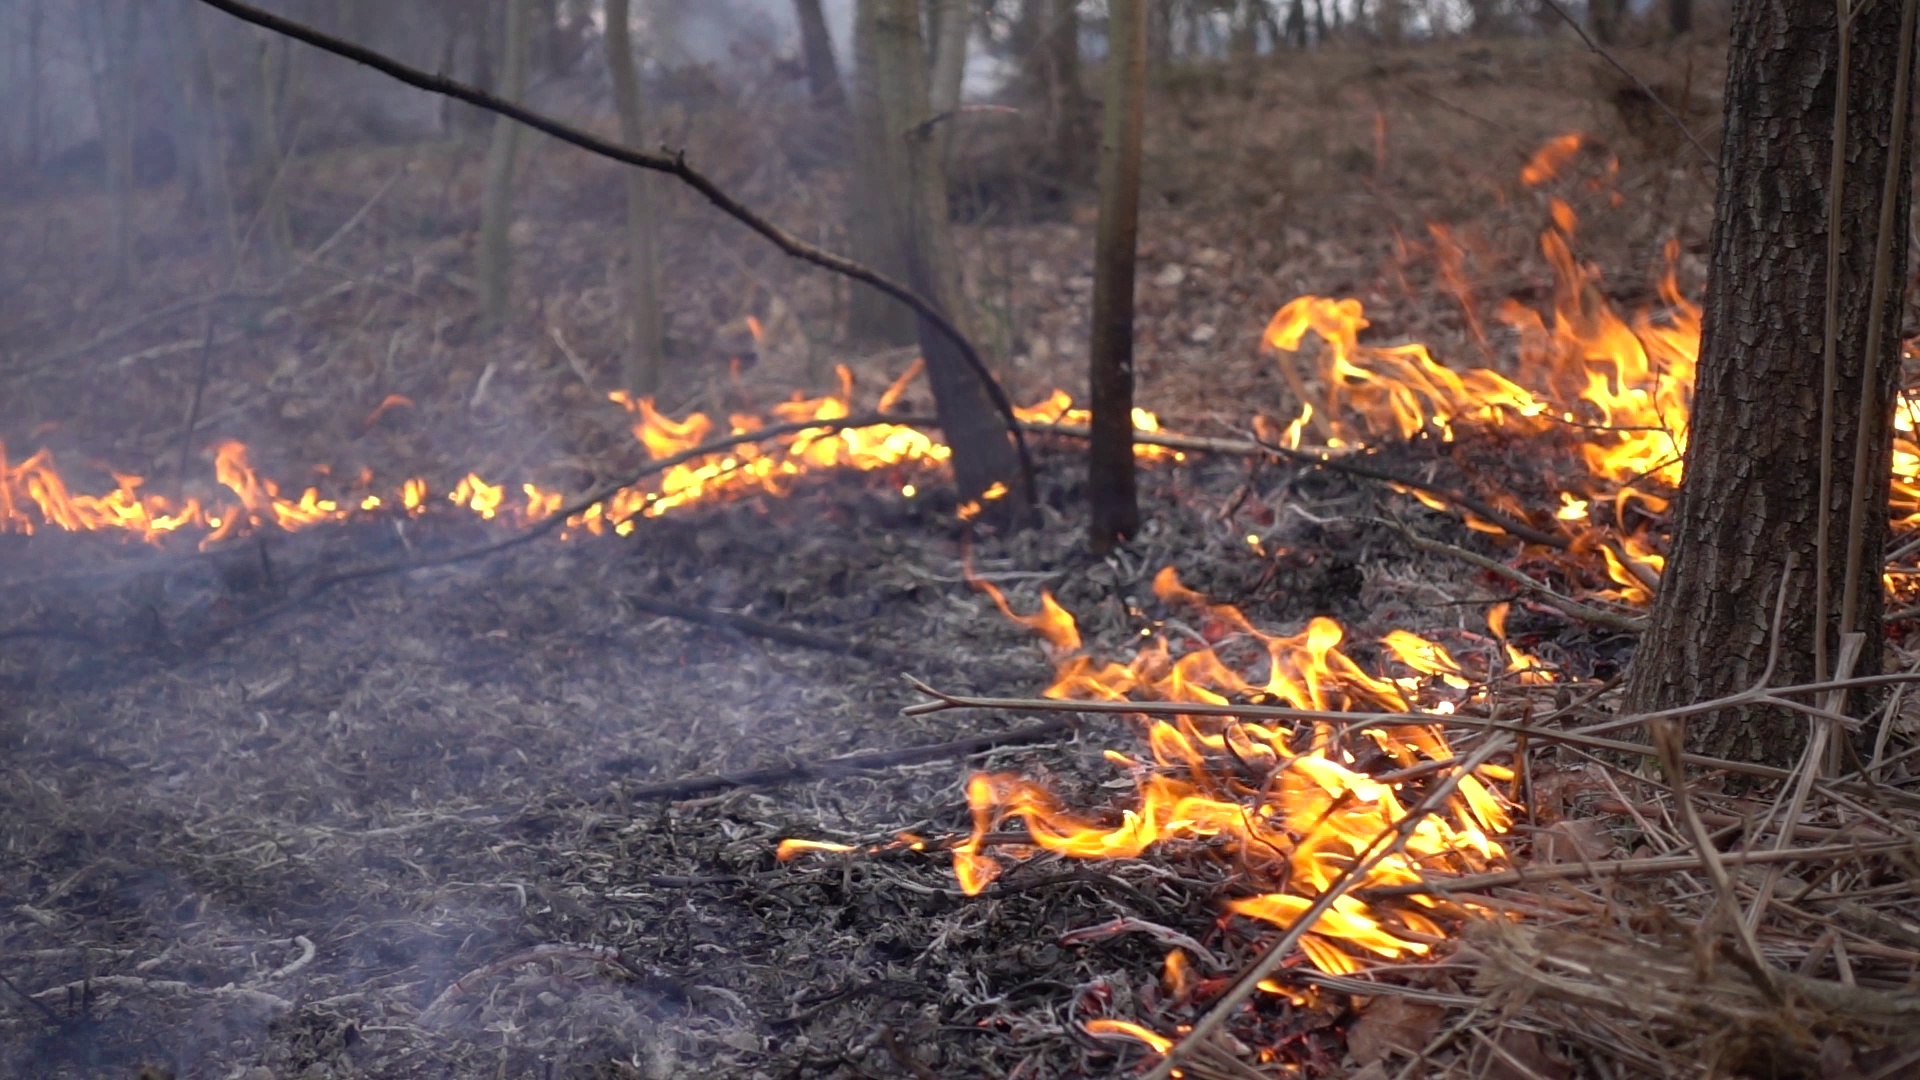fire: (959, 578, 1556, 975), (1261, 248, 1713, 502), (593, 384, 936, 531), (5, 442, 342, 531), (448, 471, 567, 521), (1014, 394, 1091, 431), (1894, 398, 1920, 502), (1131, 402, 1164, 459), (397, 477, 427, 516)
